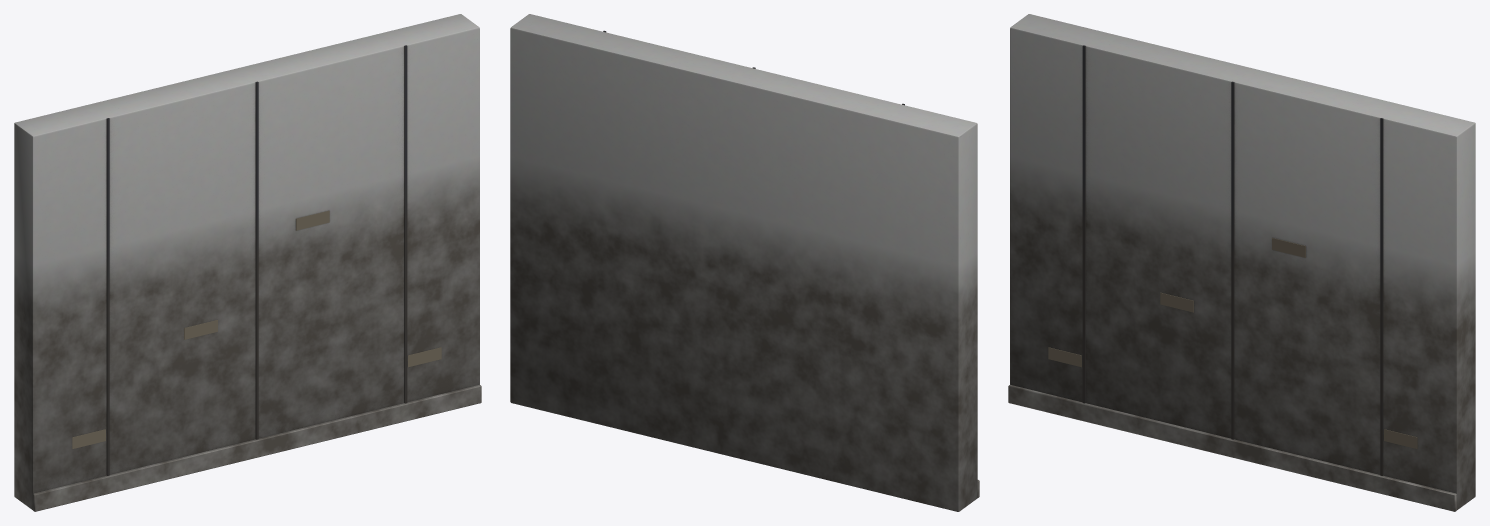
The model's file is g67_pz_wall_conc.glb.
3 views of the same model, side by side, from view 1: azimuth 30°, elevation 25°; view 2: azimuth 150°, elevation 25°; view 3: azimuth 330°, elevation 25° (orthographic).
Parts seen in each view (by area): view 1: g67_pz_wall_conc; view 2: g67_pz_wall_conc; view 3: g67_pz_wall_conc.
Part boxes in pixels (x1,y1,x2,y2): g67_pz_wall_conc: [14, 14, 481, 511]; g67_pz_wall_conc: [510, 14, 979, 511]; g67_pz_wall_conc: [1008, 14, 1475, 511].
Size of the model in its own units: 4 by 3.2 by 0.325.
Materials: 1 (1 with a texture image).
